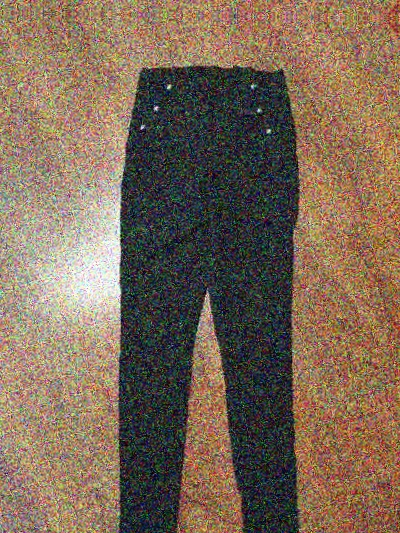Pants: (69, 61, 334, 533)
